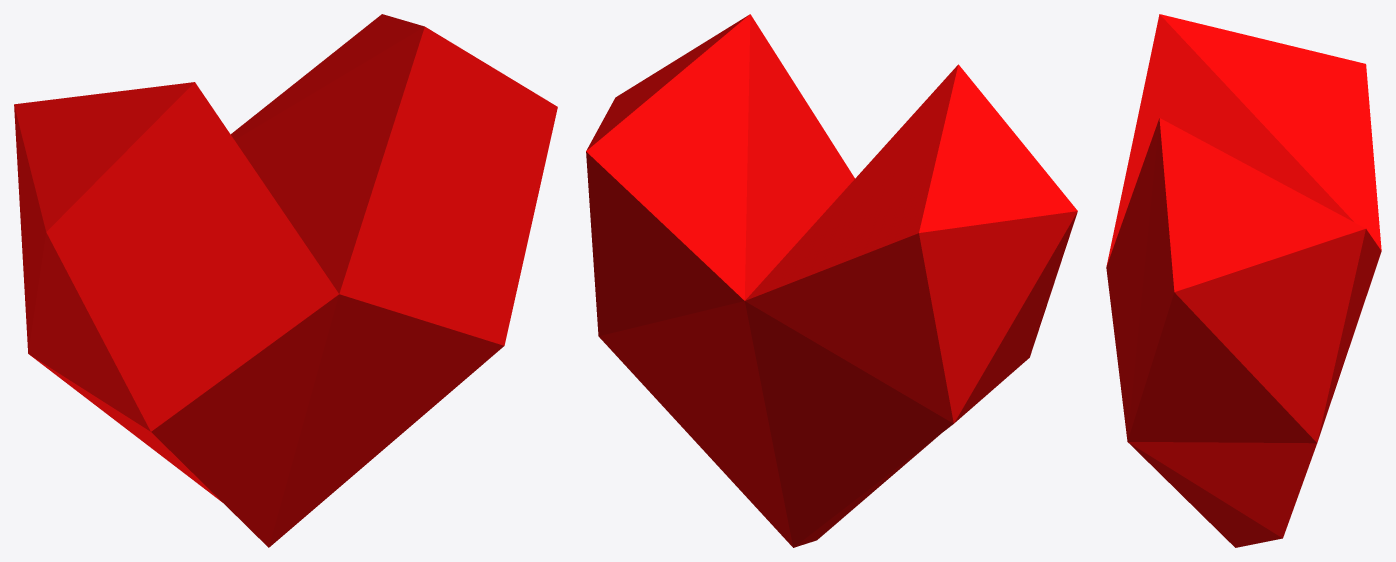
Rendered from Heart.fbx.
3 views of the same model, side by side, from view 1: azimuth 30°, elevation 25°; view 2: azimuth 150°, elevation 25°; view 3: azimuth 270°, elevation 25° (orthographic). The views are drawn at different scales.
Parts seen in each view (by area): view 1: Heart; view 2: Heart; view 3: Heart.
Boxes of the visible parts, x1,y1,x2,y2 form: Heart: (14, 14, 557, 547); Heart: (586, 14, 1077, 547); Heart: (1106, 14, 1381, 547).
Size of the model in its own units: 0.7067 by 0.6922 by 0.3582.
